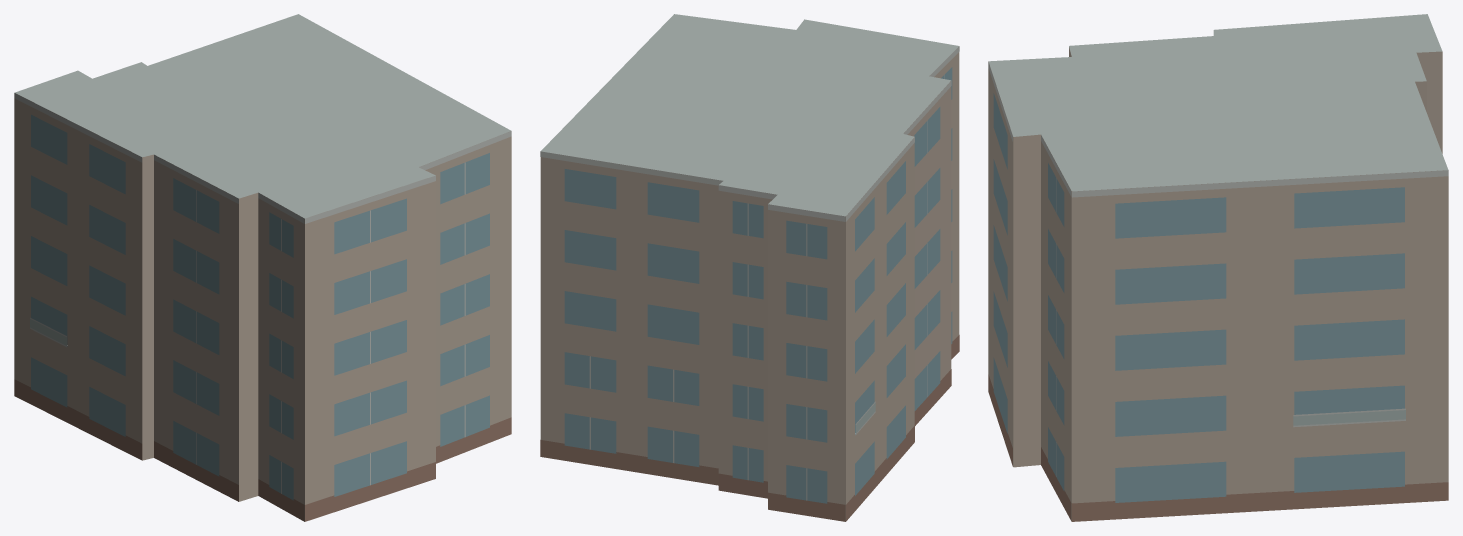
The model's file is survey-upis-32584007.glb.
3 views of the same model, side by side, from view 1: azimuth 30°, elevation 25°; view 2: azimuth 150°, elevation 25°; view 3: azimuth 270°, elevation 25° (orthographic). The views are drawn at different scales.
Parts seen in each view (by area): view 1: survey-upis-32584007.tmp; view 2: survey-upis-32584007.tmp; view 3: survey-upis-32584007.tmp.
Boxes of the visible parts, x1,y1,x2,y2 form: survey-upis-32584007.tmp: [14, 14, 511, 521]; survey-upis-32584007.tmp: [540, 14, 959, 521]; survey-upis-32584007.tmp: [988, 14, 1448, 521].
Bounding box in the file's own units: 15.27 × 13.25 × 16.73.
